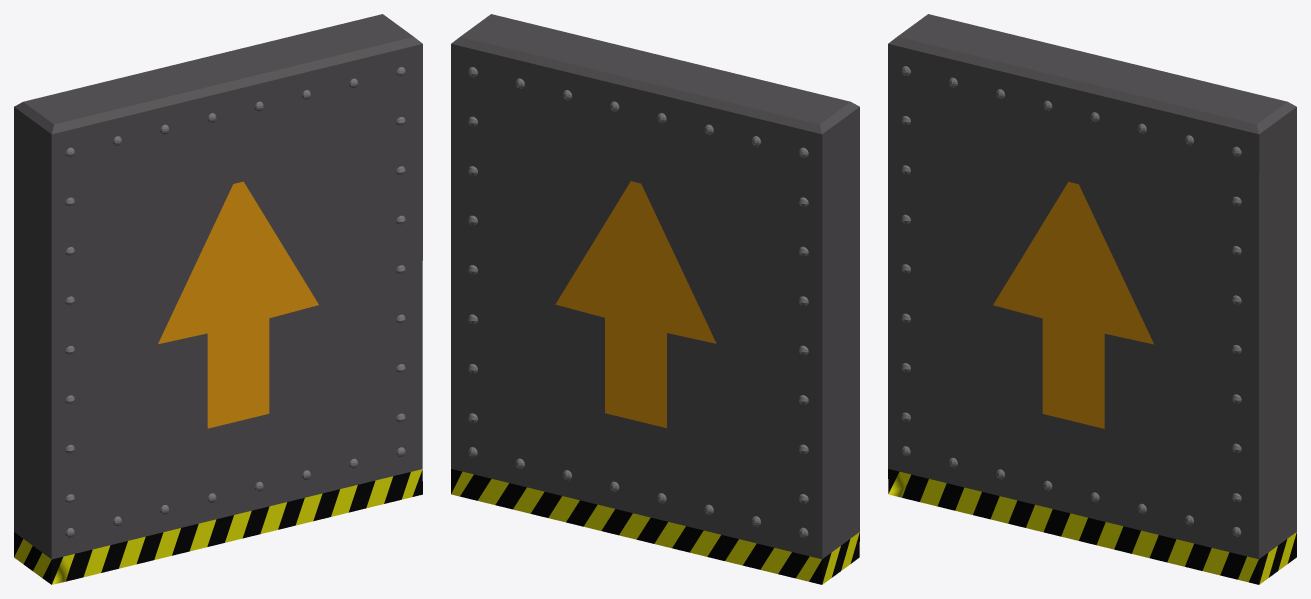
The model's file is MetalWallUpArrow.glb.
3 views of the same model, side by side, from view 1: azimuth 30°, elevation 25°; view 2: azimuth 150°, elevation 25°; view 3: azimuth 330°, elevation 25° (orthographic).
Visible parts, largest first — view 1: Cube.001, Plane.003, Sphere.008, Sphere.006, Sphere.005, Sphere.007; view 2: Cube.001, Plane.002, Sphere.001, Sphere.004, Sphere.003, Sphere.002; view 3: Cube.001, Plane.003, Sphere.008, Sphere.005, Sphere.006, Sphere.007.
Boxes of the visible parts, x1,y1,x2,y2 form: Cube.001: (14,14,422,584); Plane.003: (158,181,318,428); Sphere.008: (65,447,405,537); Sphere.006: (65,149,74,503); Sphere.005: (396,68,405,422); Sphere.007: (67,67,405,157); Cube.001: (451,14,859,584); Plane.002: (555,181,716,428); Sphere.001: (468,447,808,537); Sphere.004: (468,68,477,422); Sphere.003: (799,149,808,503); Sphere.002: (468,67,806,157); Cube.001: (888,14,1296,584); Plane.003: (993,181,1153,428); Sphere.008: (901,446,1241,536); Sphere.005: (1232,148,1241,502); Sphere.006: (901,67,910,421); Sphere.007: (901,66,1239,156).
Size of the model in its own units: 1.92 by 2.25 by 0.3747.
